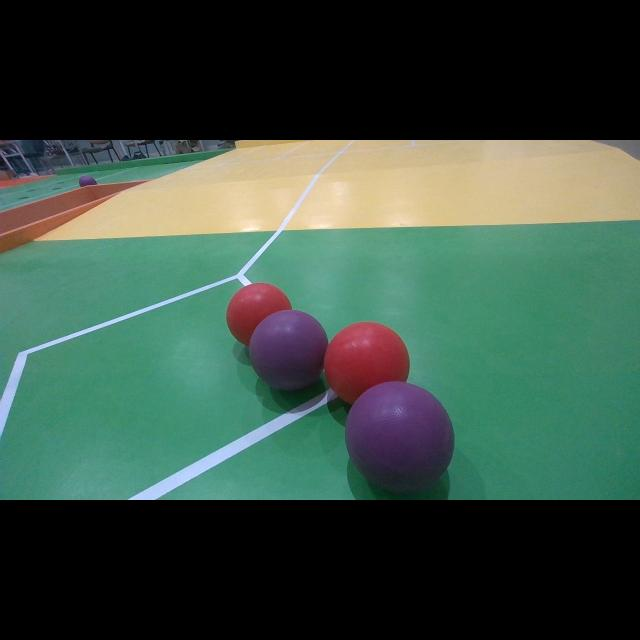P: (345, 381, 455, 494), (248, 310, 329, 390)
R: (324, 322, 410, 406), (226, 284, 292, 346)
